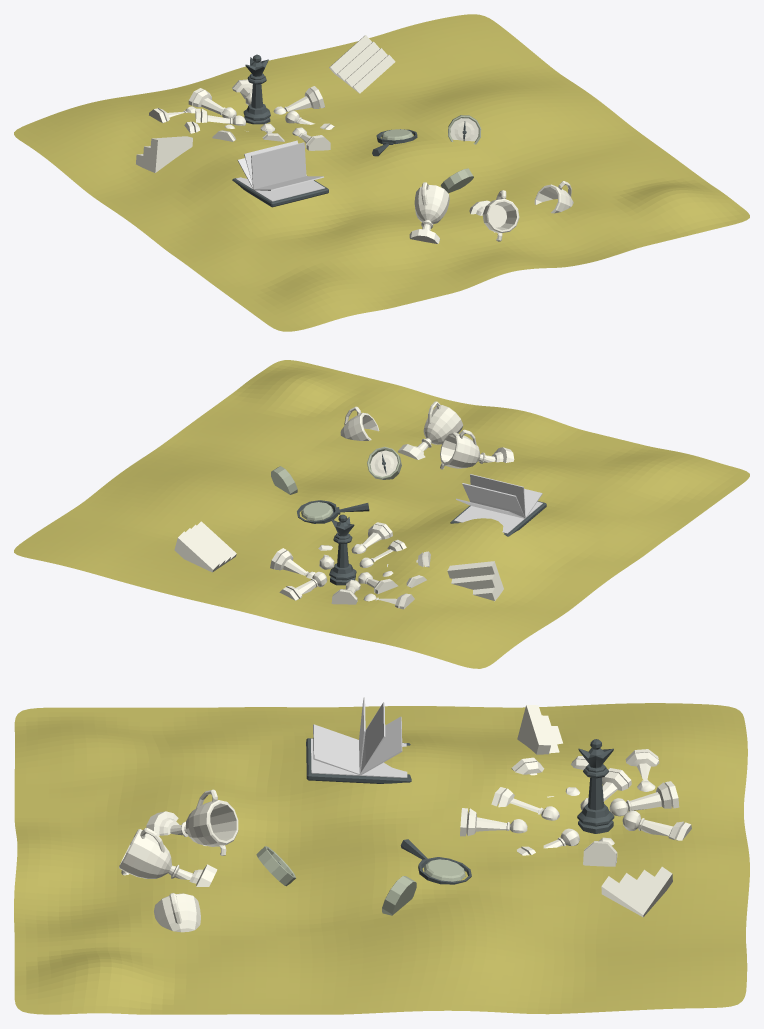
3 renders of one model, top to bottom at view 1: azimuth 30°, elevation 25°; view 2: azimuth 150°, elevation 25°; view 3: azimuth 270°, elevation 25°, orthographic. The views are drawn at different scales.
Parts seen in each view (by area): view 1: level2_ground, Cube.025, stairs, award.001, award, stairs.001, Cylinder.005, award.002, Cylinder.023, glass, Cylinder.015, Cylinder.006 (+1 smaller); view 2: level2_ground, Cube.025, stairs, award.001, award, stairs.001, Cylinder.005, glass, Cylinder.007, award.002, Cylinder.006, Cylinder.021 (+1 smaller); view 3: level2_ground, Cube.025, award.001, award, Cylinder.005, stairs, award.002, stairs.001, glass, Cylinder.015, Cylinder.014, Cylinder.021 (+8 smaller).
Part boxes in pixels (x1,y1,x2,y2): level2_ground: (14, 14, 749, 331); Cube.025: (236, 140, 324, 201); stairs: (329, 35, 395, 93); award.001: (409, 182, 449, 243); award: (469, 190, 519, 241); stairs.001: (135, 136, 192, 172); Cylinder.005: (243, 54, 270, 124); award.002: (534, 181, 573, 213); Cylinder.023: (448, 115, 481, 144); glass: (372, 129, 417, 156); Cylinder.015: (188, 88, 236, 118); Cylinder.006: (273, 86, 324, 114); level2_ground: (14, 360, 749, 668); Cube.025: (454, 474, 542, 533); stairs: (174, 521, 236, 572); award.001: (440, 429, 514, 469); award: (398, 401, 463, 459); stairs.001: (447, 561, 503, 601); Cylinder.005: (329, 514, 356, 585); glass: (297, 500, 369, 523); Cylinder.007: (367, 446, 401, 479); award.002: (340, 406, 379, 440); Cylinder.006: (270, 548, 315, 578); Cylinder.021: (351, 522, 392, 553); level2_ground: (14, 703, 749, 1014); Cube.025: (311, 697, 407, 777); award.001: (146, 789, 238, 855); award: (119, 828, 217, 886); Cylinder.005: (577, 739, 614, 833); stairs: (601, 866, 672, 917); award.002: (154, 893, 200, 932); stairs.001: (517, 704, 562, 754); glass: (400, 839, 471, 884); Cylinder.015: (609, 781, 679, 816); Cylinder.014: (622, 810, 691, 840); Cylinder.021: (460, 808, 527, 836).
Bounding box in the file's own units: 5203 × 1108 × 5269.
